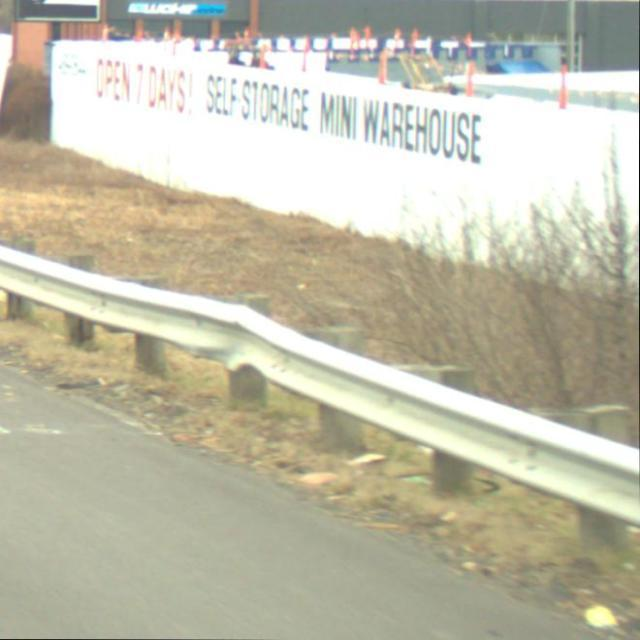Guard rail: (0, 245, 640, 560)
